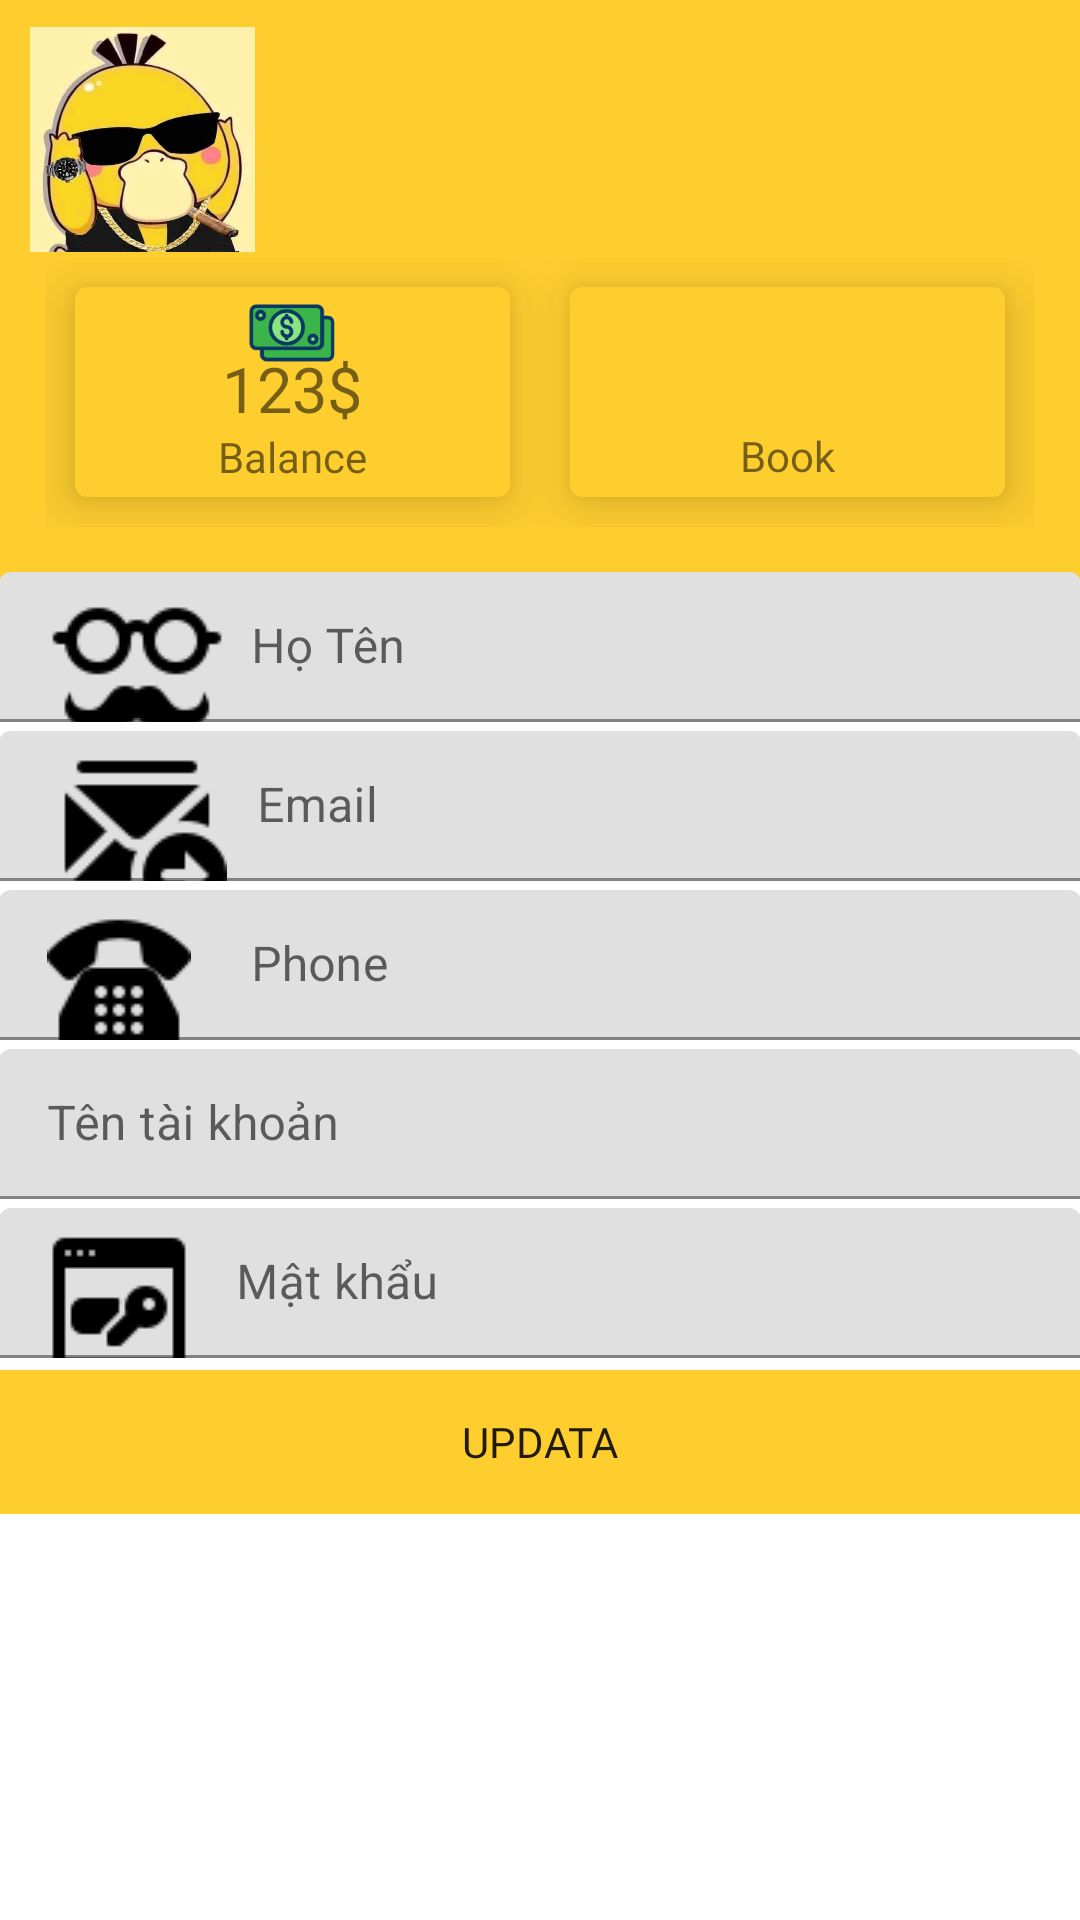

Named icons in this screenshot (1080 x 1920) and their centers, (x,y):
payment: (292,333)
